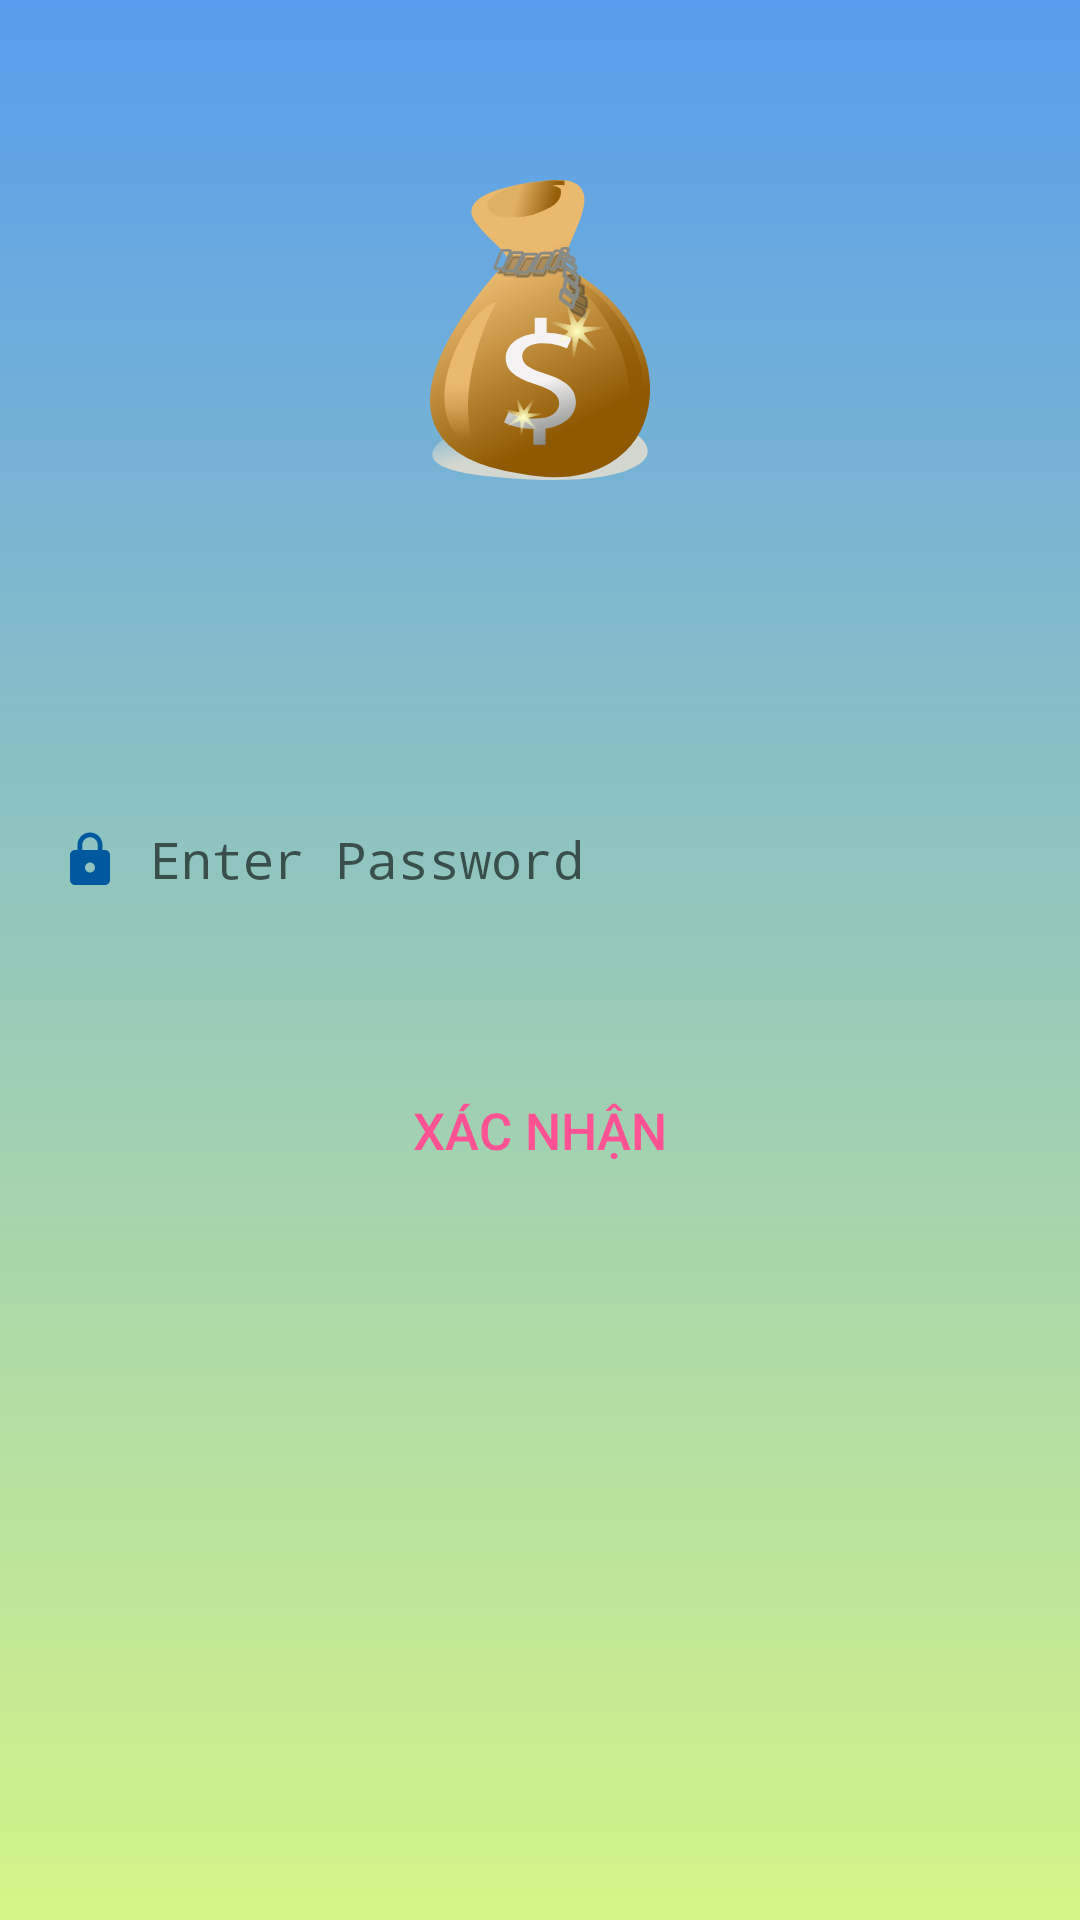

Point at icon controls on the screen. Image size 1080*1920, points as point (x, y).
lock: point (90, 858)
